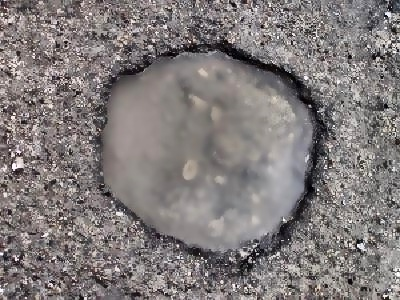pothole: (94, 38, 327, 271)
